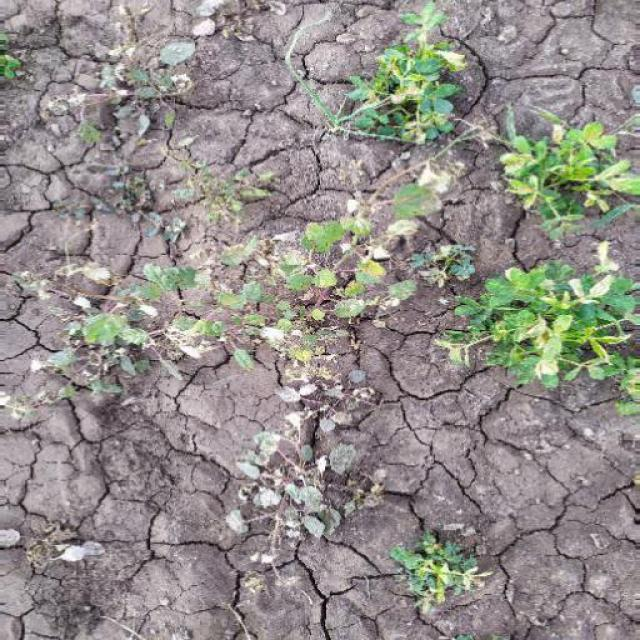weed: (185, 424, 490, 618), (99, 219, 438, 366), (454, 251, 640, 391), (285, 35, 497, 153)
